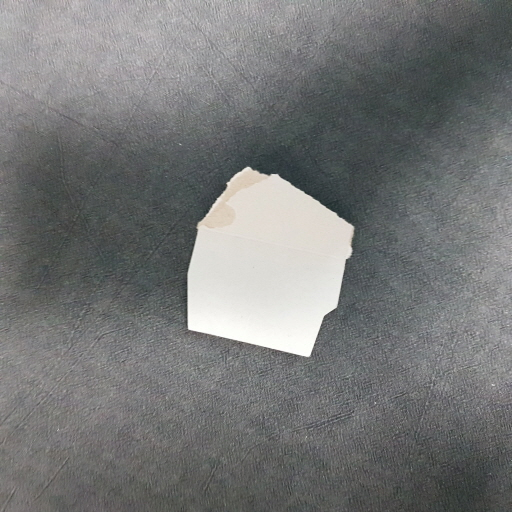Paper_2: (179, 153, 357, 366)
